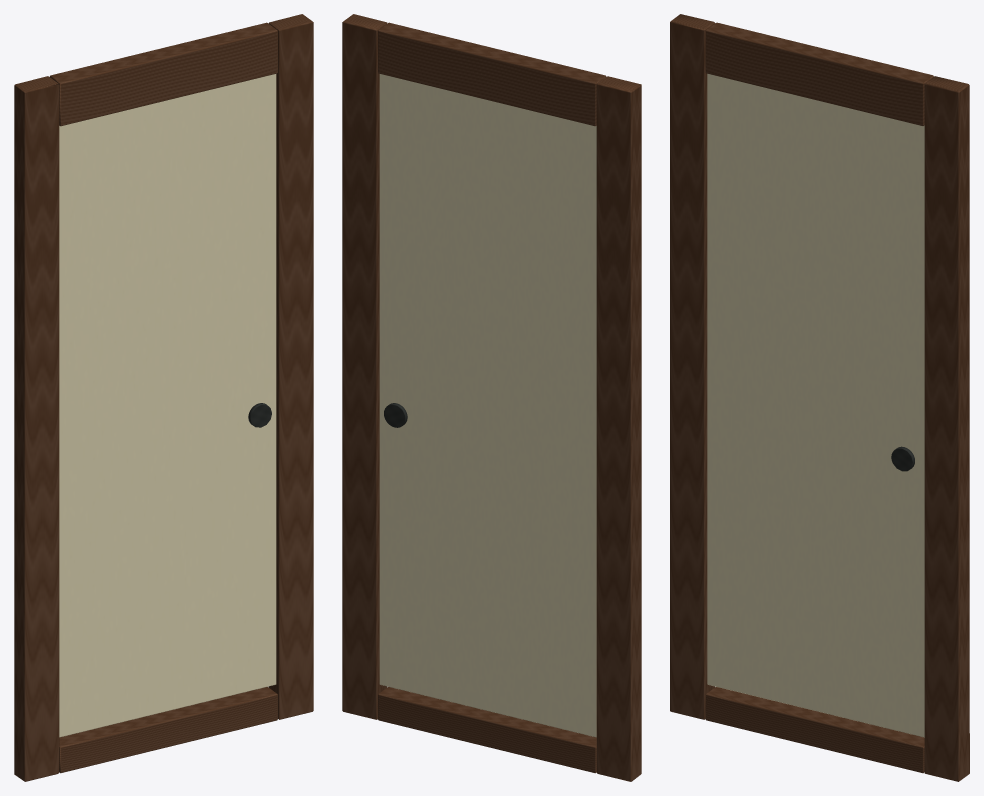
File: fusuma.gltf
3 views of the same model, side by side, from view 1: azimuth 30°, elevation 25°; view 2: azimuth 150°, elevation 25°; view 3: azimuth 330°, elevation 25° (orthographic).
Size of the model in its own units: 0.9 by 2.05 by 0.082.
3 materials, 3 textured.
